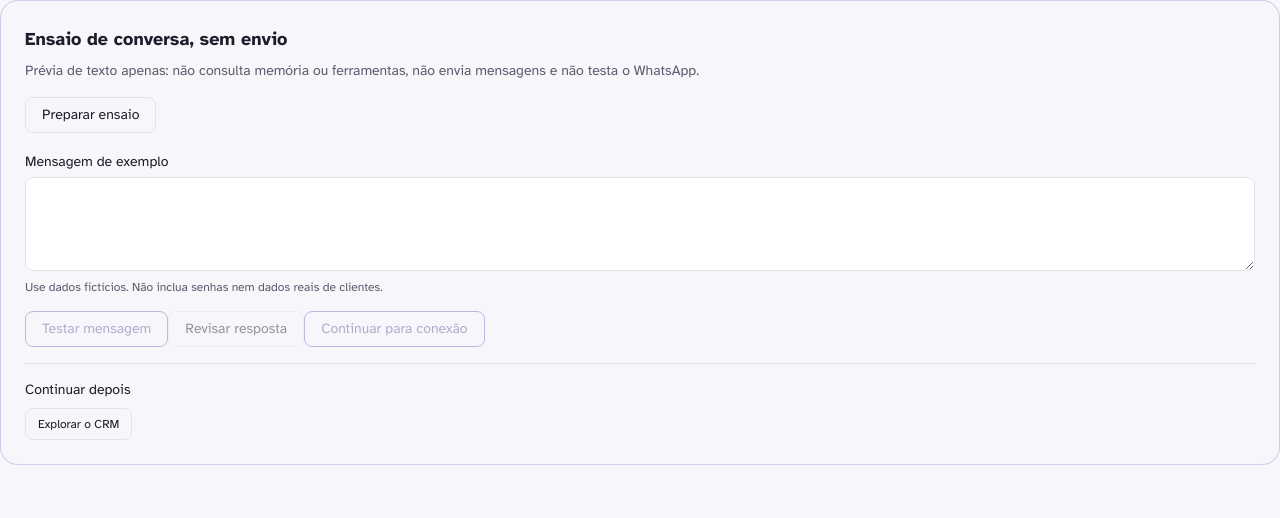
it: draft_model_unavailable conserva mensagem e saída sem avançar
Type "Pergunta sintética QA" into the text box labelled "Mensagem de exemplo". click: (640, 224)
box: [25,177,1255,271]
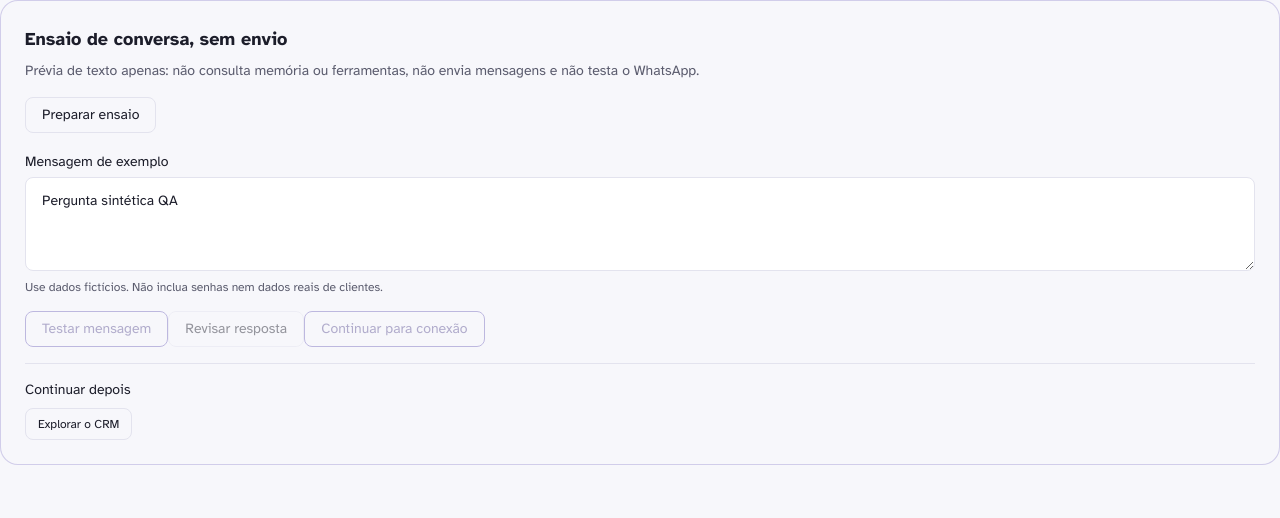
Click the button "Preparar ensaio". click: (91, 115)
box: [25,97,156,133]
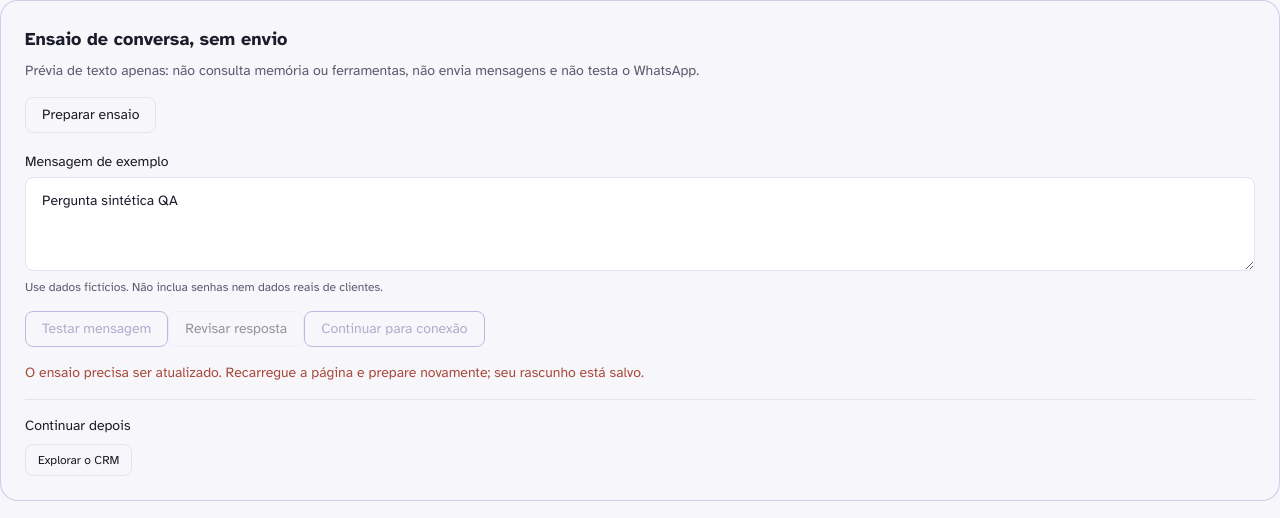
expect the button "Continuar para conexão" is disabled: met, box [304,311,484,347]
expect the message shows "O ensaio precisa ser atualizado. Recarregue a página e prepare novamente; seu rascunho está salvo.": met, box [25,364,644,381]
